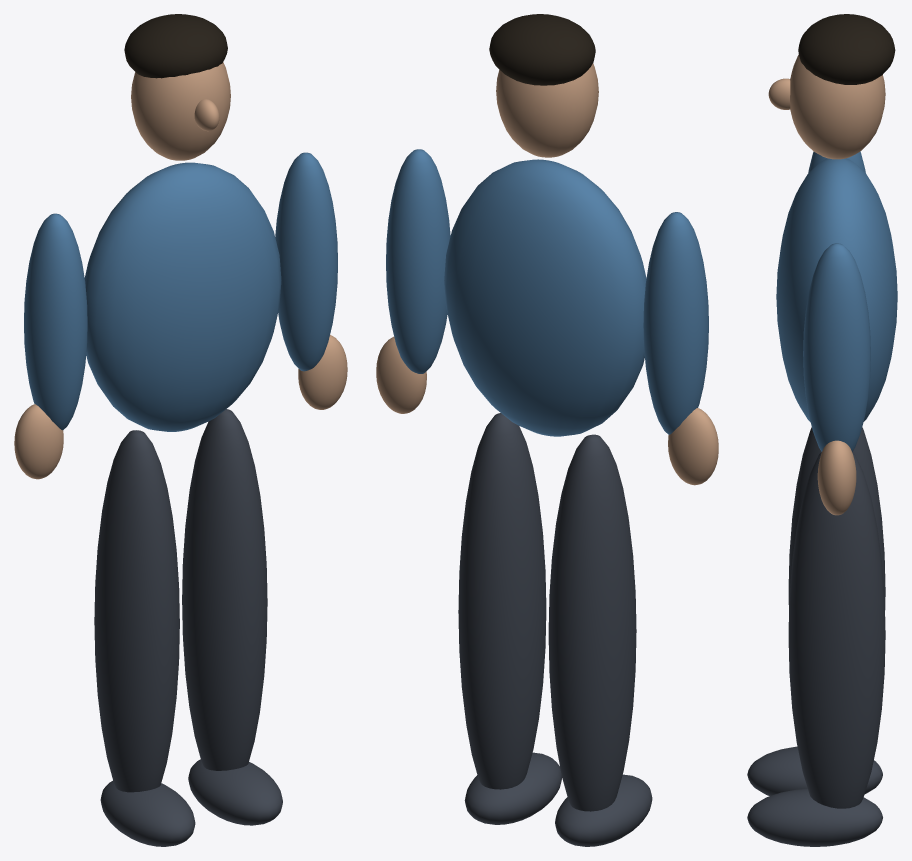
The model's file is avatar-fixture.glb.
The picture shows the model from 3 angles, left to right: view 1: azimuth 30°, elevation 25°; view 2: azimuth 150°, elevation 25°; view 3: azimuth 270°, elevation 25°; orthographic projection. The views are drawn at different scales.
Parts seen in each view (by area): view 1: QA_torso, QA_leg.001, QA_leg, QA_arm.001, QA_arm, QA_head, QA_hair, QA_foot, QA_foot.001, QA_hand.001, QA_hand, QA_nose; view 2: QA_torso, QA_leg.001, QA_leg, QA_arm.001, QA_arm, QA_head, QA_hair, QA_foot.001, QA_foot, QA_hand.001, QA_hand; view 3: QA_leg, QA_torso, QA_arm, QA_head, QA_foot, QA_hair, QA_leg.001, QA_foot.001, QA_hand, QA_nose, QA_arm.001.
Boxes of the visible parts, <box> form: QA_torso: <box>84,162,281,431</box>; QA_leg.001: <box>94,430,179,792</box>; QA_leg: <box>182,409,267,770</box>; QA_arm.001: <box>24,213,87,430</box>; QA_arm: <box>275,152,337,371</box>; QA_head: <box>131,62,230,160</box>; QA_hair: <box>124,14,227,78</box>; QA_foot: <box>188,759,282,825</box>; QA_foot.001: <box>100,781,195,846</box>; QA_hand.001: <box>14,404,63,479</box>; QA_hand: <box>298,335,347,409</box>; QA_nose: <box>194,99,219,131</box>; QA_torso: <box>444,159,646,436</box>; QA_leg.001: <box>548,434,636,811</box>; QA_leg: <box>458,413,546,789</box>; QA_arm.001: <box>643,212,708,434</box>; QA_arm: <box>386,149,450,373</box>; QA_head: <box>496,63,598,157</box>; QA_hair: <box>489,14,595,85</box>; QA_foot.001: <box>555,774,652,846</box>; QA_foot: <box>464,752,561,824</box>; QA_hand.001: <box>668,408,718,485</box>; QA_hand: <box>376,336,426,413</box>; QA_leg: <box>788,452,885,808</box>; QA_torso: <box>776,158,897,421</box>; QA_arm: <box>803,243,870,451</box>; QA_head: <box>790,54,885,159</box>; QA_foot: <box>747,788,882,846</box>; QA_hair: <box>798,14,895,84</box>; QA_leg.001: <box>788,427,885,609</box>; QA_foot.001: <box>747,746,882,795</box>; QA_hand: <box>817,440,856,515</box>; QA_nose: <box>768,78,790,109</box>; QA_arm.001: <box>808,151,865,172</box>.
Size of the model in its own units: 0.79 by 1.81 by 0.31.
